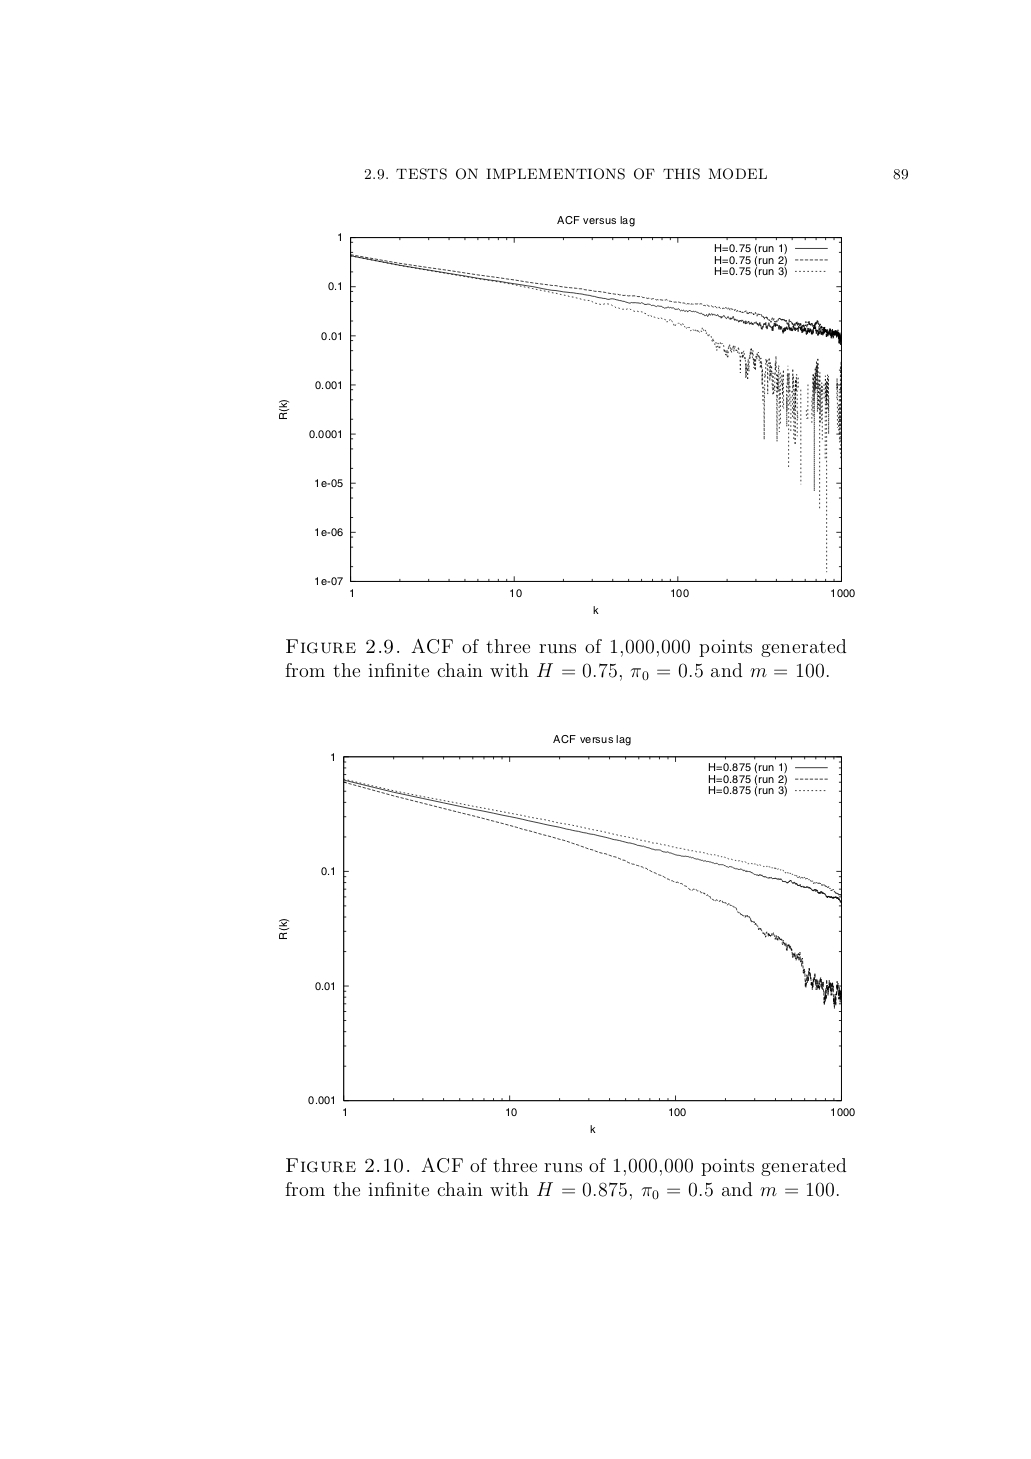figure: (279, 233, 854, 613), (279, 753, 854, 1115)
